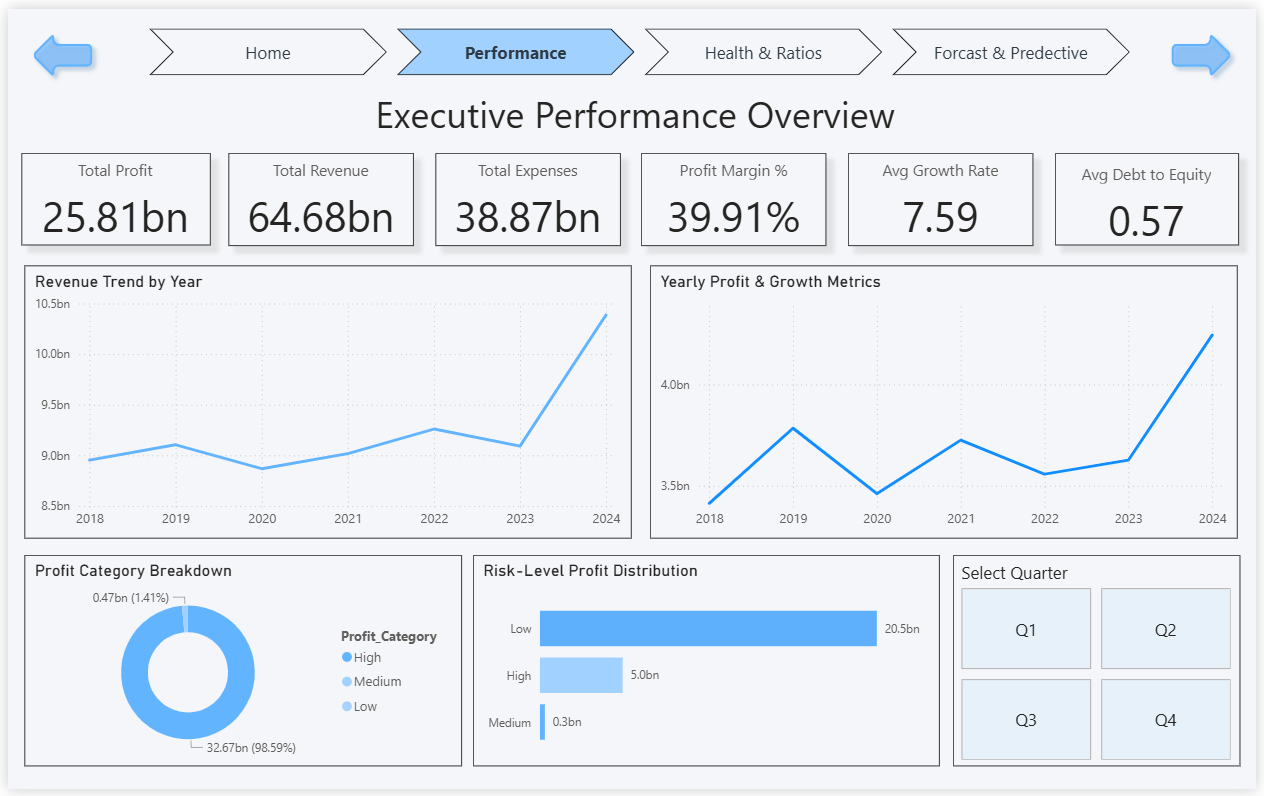

The page's visual inventory and layout, read from the dashboard file:
{"tool":"powerbi","page":{"name":"Performance","canvas":[1280,800],"ordinal":1},"visuals":[{"type":"lineChart","title":"Revenue Trend by Year","fields":{"Y":["Table.Total Revenue"],"Category":["finance financial_dataset.Year"]},"box":[16.2,262.5,622.8,279.9],"z":0},{"type":"lineChart","title":"Yearly Profit & Growth Metrics","fields":{"Y":["Table.Total Profit"],"Category":["finance financial_dataset.Year"]},"box":[659,262.5,603,279.9],"z":1000},{"type":"donutChart","title":"Profit Category Breakdown","fields":{"Category":["finance financial_dataset.Profit_Category"],"Y":["Table.Total Profit"]},"box":[16.2,560.6,448.9,217],"z":2000},{"type":"barChart","title":"Risk-Level Profit Distribution","fields":{"Category":["finance financial_dataset.Risk_Level"],"Y":["Table.Total Profit"]},"box":[476.7,560.6,478.7,217],"z":3000},{"type":"cardVisual","fields":{"Data":["Table.Total Profit"]},"box":[14.6,148.2,193.8,94.4],"z":4000},{"type":"cardVisual","fields":{"Data":["Table.Profit Margin %"]},"box":[649.7,147.6,190,95],"z":5000},{"type":"cardVisual","fields":{"Data":["Table.Total Expenses"]},"box":[438,147.6,190,95],"z":6000},{"type":"cardVisual","fields":{"Data":["Table.Total Revenue"]},"box":[226.3,147.6,190,95],"z":7000},{"type":"cardVisual","fields":{"Data":["Table.Avg Debt to Equity"]},"box":[1073.1,148.2,188.8,94.4],"z":8000},{"type":"cardVisual","fields":{"Data":["Table.Avg Growth Rate"]},"box":[861.4,147.6,190,95],"z":9000},{"type":"textbox","box":[369.3,70.3,560,80],"z":10000},{"type":"advancedSlicerVisual","title":"Select Quarter","fields":{"Values":["finance financial_dataset.Quarter"]},"box":[968.7,560.6,294.9,217],"z":11000},{"type":"shape","box":[1184,16,80,64],"z":12000},{"type":"shape","box":[16,16,80,64],"z":13000},{"type":"pageNavigator","box":[144,20,1008,48],"z":14000}]}

Visuals, with their boxes in screenshot pixels (x1, y1, x2, y2), scaled from the page's 1280x800 canvas onto the 1264x796 screenshot:
"Revenue Trend by Year" lineChart: 16/261/631/540
"Yearly Profit & Growth Metrics" lineChart: 651/261/1246/540
"Profit Category Breakdown" donutChart: 16/558/459/774
"Risk-Level Profit Distribution" barChart: 471/558/943/774
cardVisual - Table.Total Profit: 14/147/206/241
cardVisual - Table.Profit Margin %: 642/147/829/241
cardVisual - Table.Total Expenses: 433/147/620/241
cardVisual - Table.Total Revenue: 223/147/411/241
cardVisual - Table.Avg Debt to Equity: 1060/147/1246/241
cardVisual - Table.Avg Growth Rate: 851/147/1038/241
textbox: 365/70/918/150
"Select Quarter" advancedSlicerVisual: 957/558/1248/774
shape: 1169/16/1248/80
shape: 16/16/95/80
pageNavigator: 142/20/1138/68
